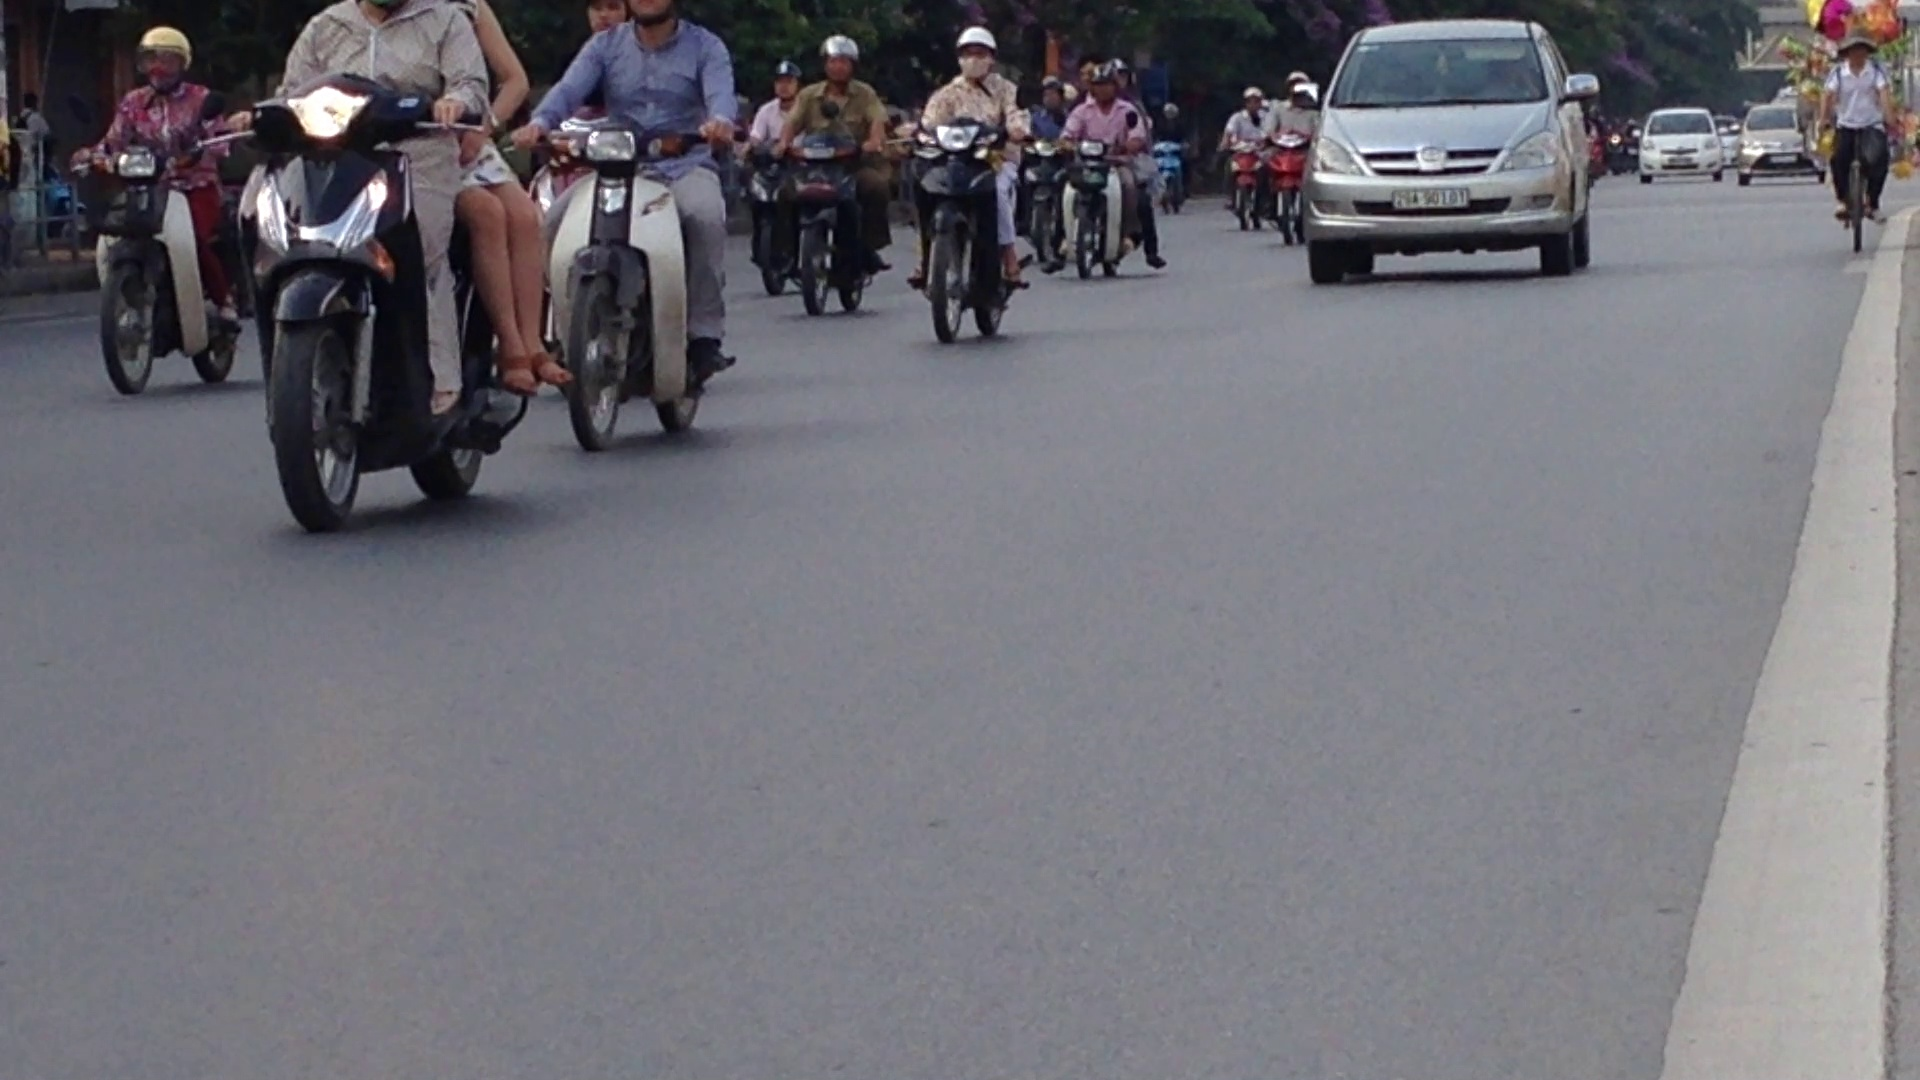vehicle-plate: (1385, 179, 1477, 211)
